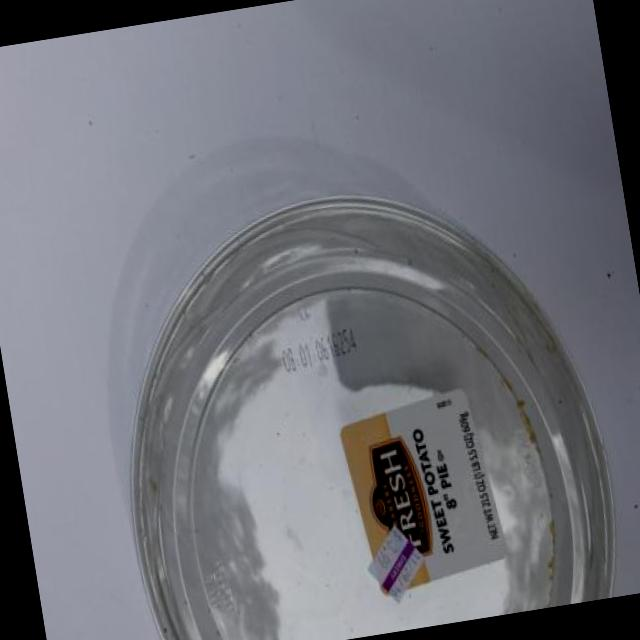Trash: (80, 155, 632, 640)
